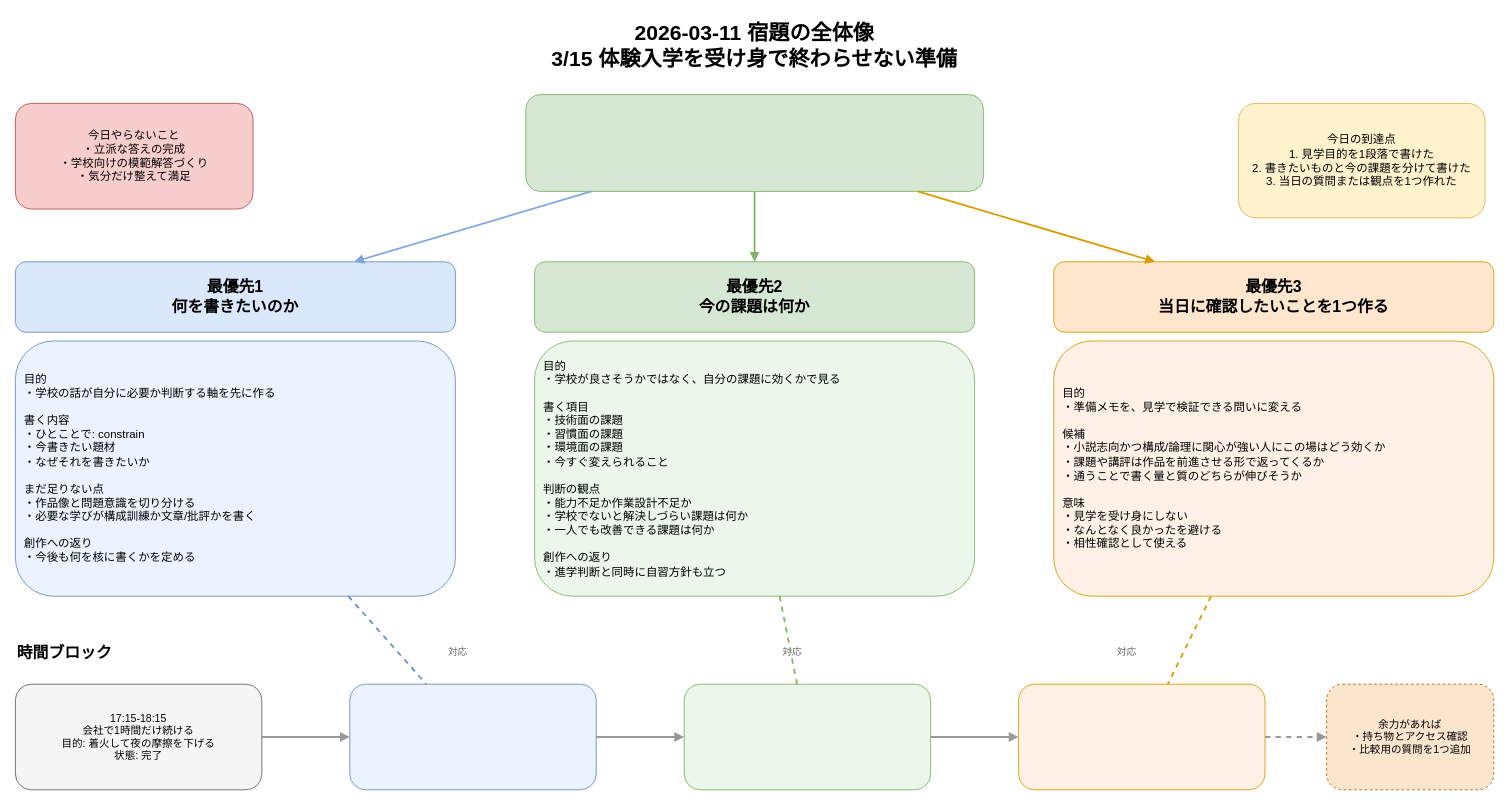
Image size: 1509x805. Some labels were removed from this diagram. The centre of each missing label's shape, as x and y in pixels:
20:00-21:30 主作業 最優先1を掘る 出力: 書きたいものの核: the point at 472,736
21:45-22:45 第2ブロック 最優先2を言語化 出力: 課題の比較軸: the point at 807,736
22:50-23:15 就寝前の整理 最優先3を作る 出力: 当日確認する質問/観点: the point at 1141,736
今日のゴール 学校が良さそうかではなく 自分の創作課題に効くかを判断できる状態にする: the point at 754,142
